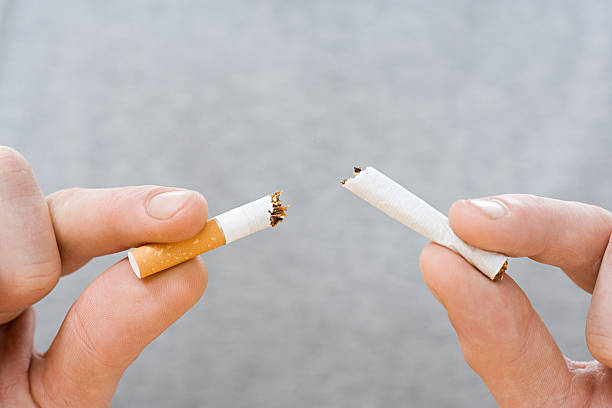cigarette: (338, 164, 509, 284), (125, 190, 288, 280)
